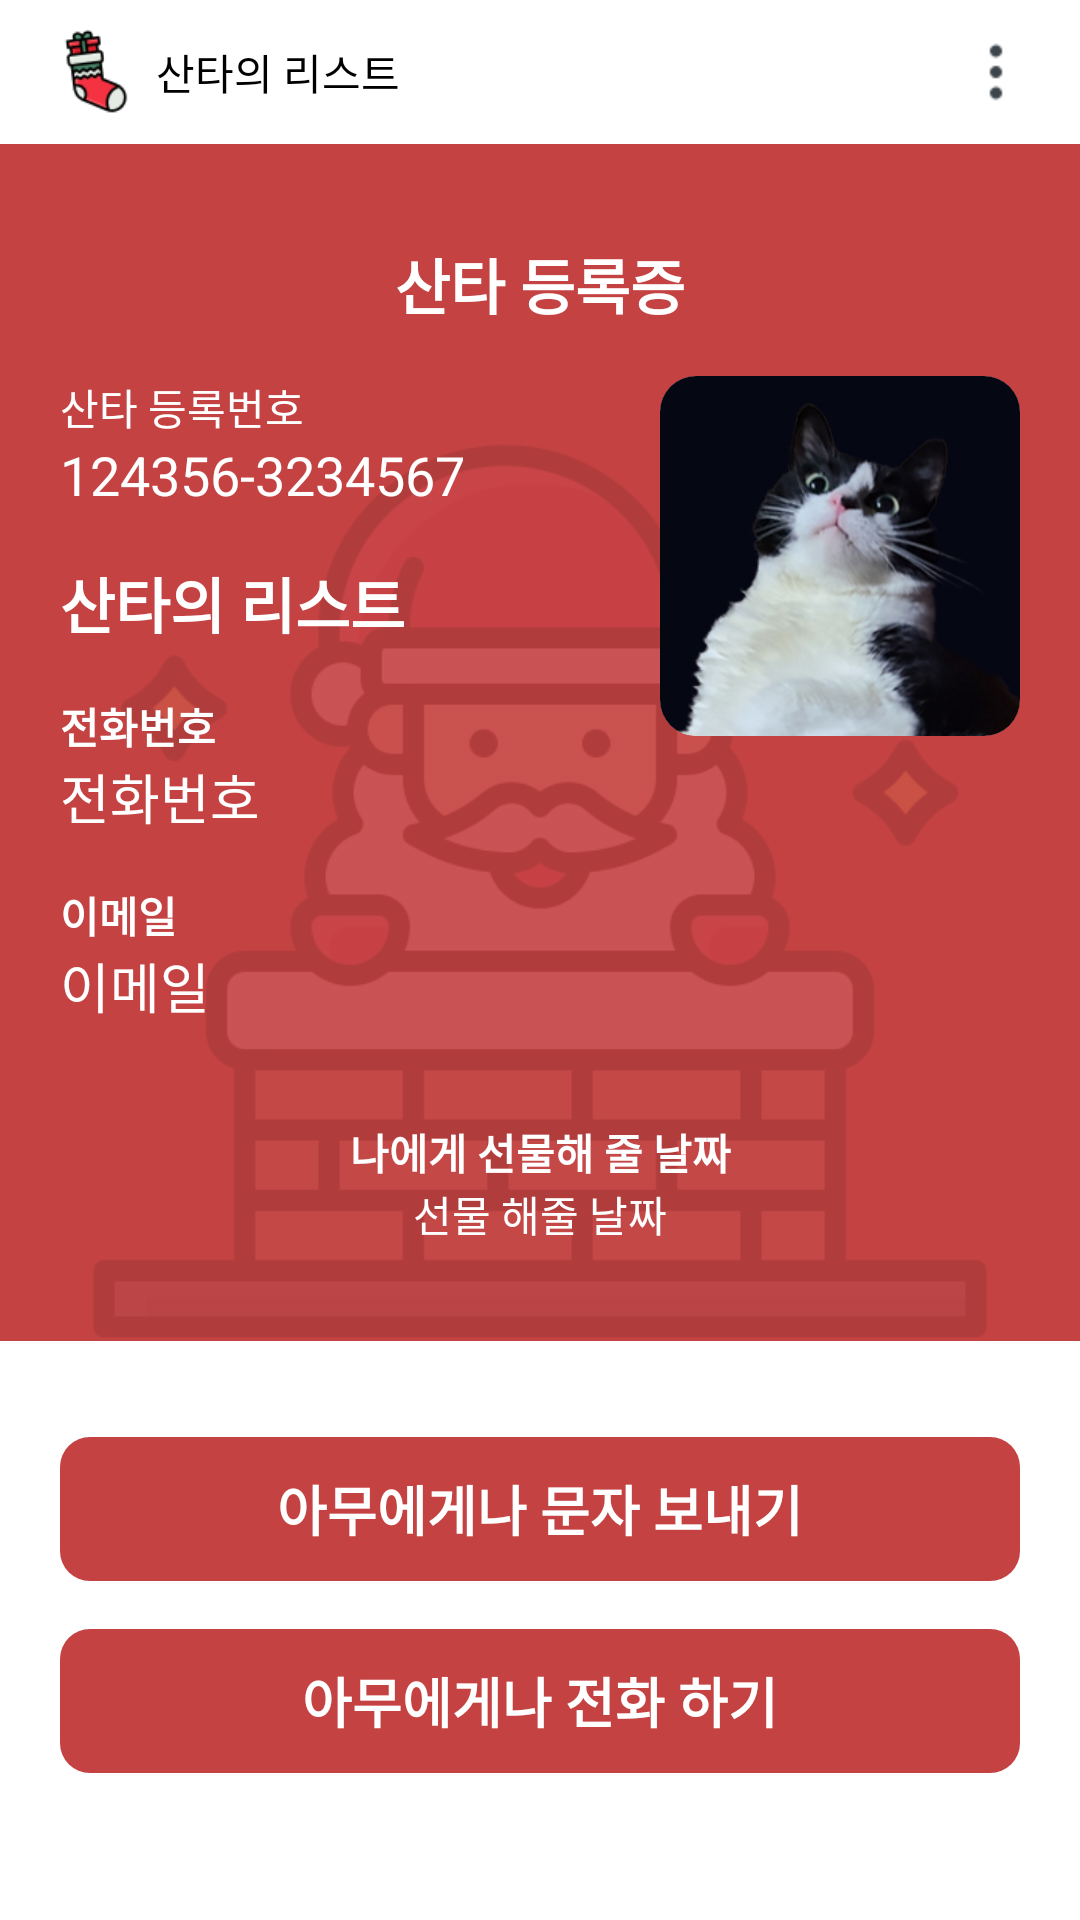

Point at icon controls on the screen. Image size 1080w x 1920h, points as (x,y).
action: (996,72)
